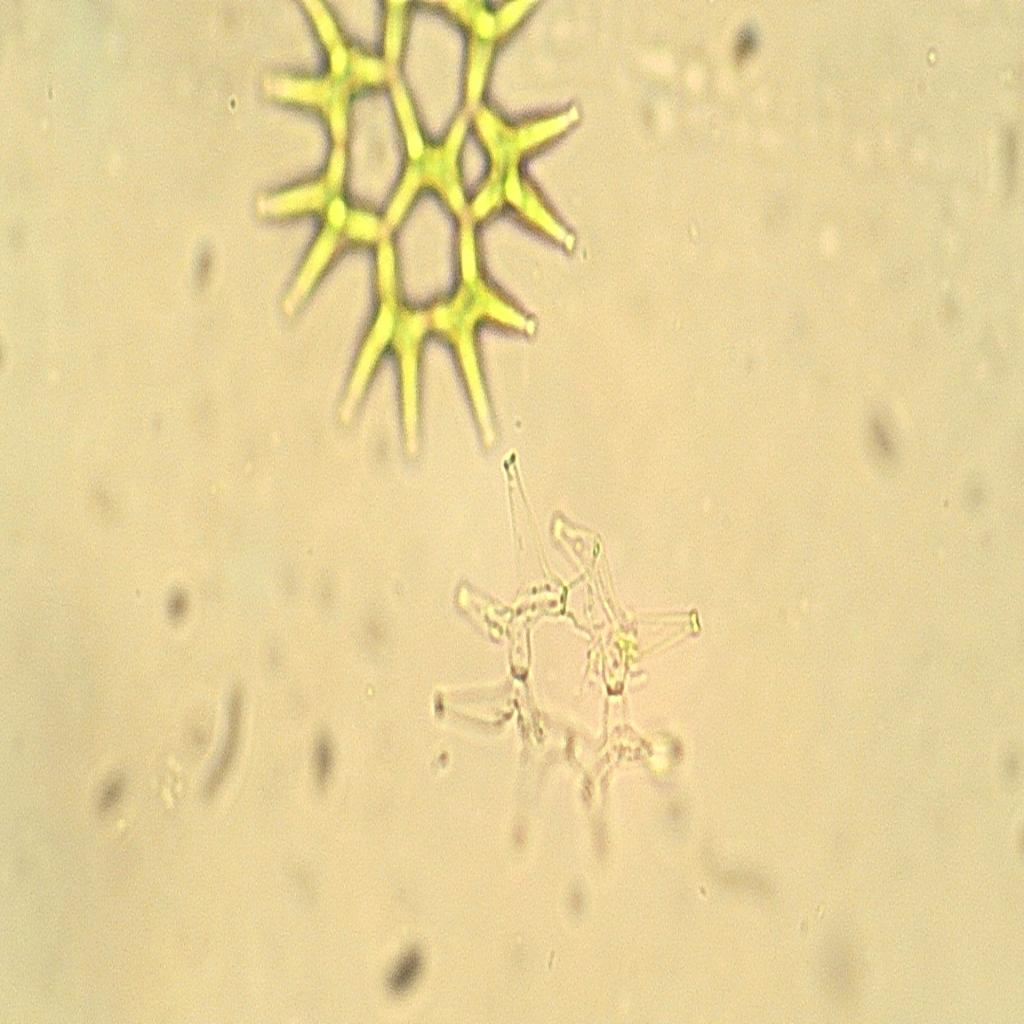Pediastrum_75TH: (409, 444, 728, 916)
